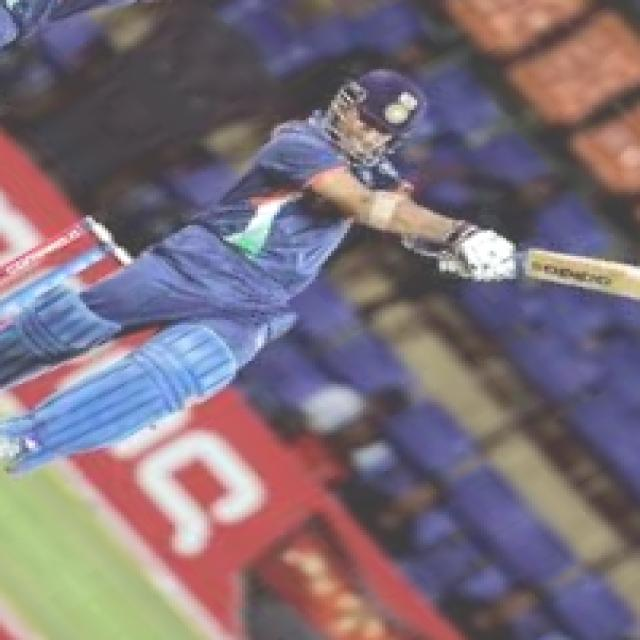toe: (603, 258, 640, 308)
